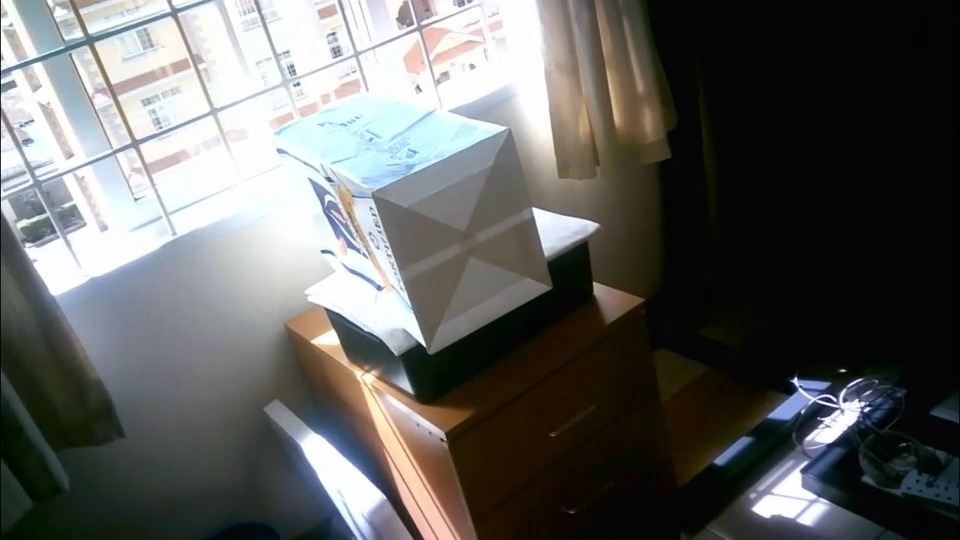wheat_flour_blue_label: (275, 92, 551, 348)
